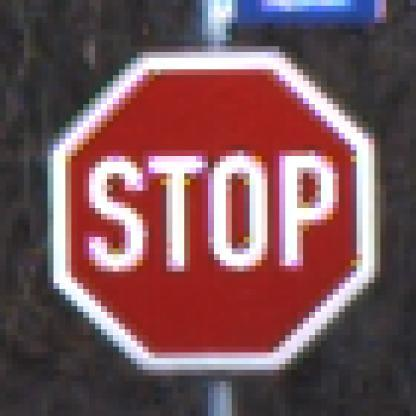Stop: (57, 61, 374, 370)
